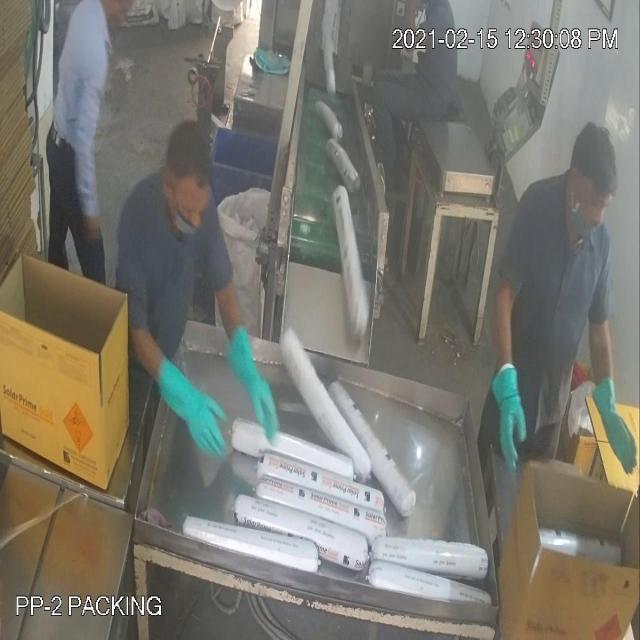No_Gloves: (56, 136, 608, 406)
